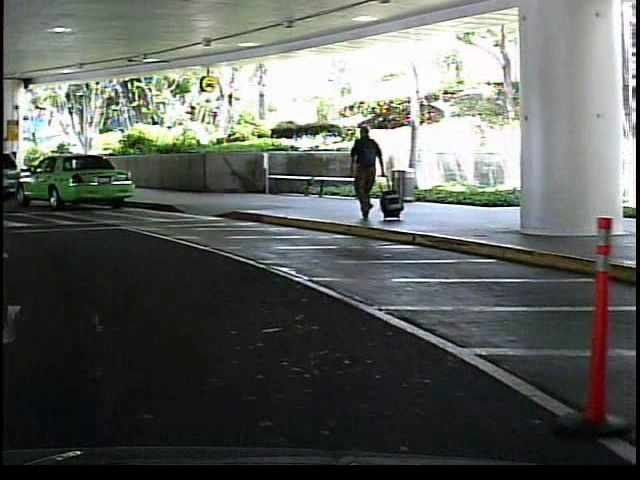person: (342, 118, 387, 230)
